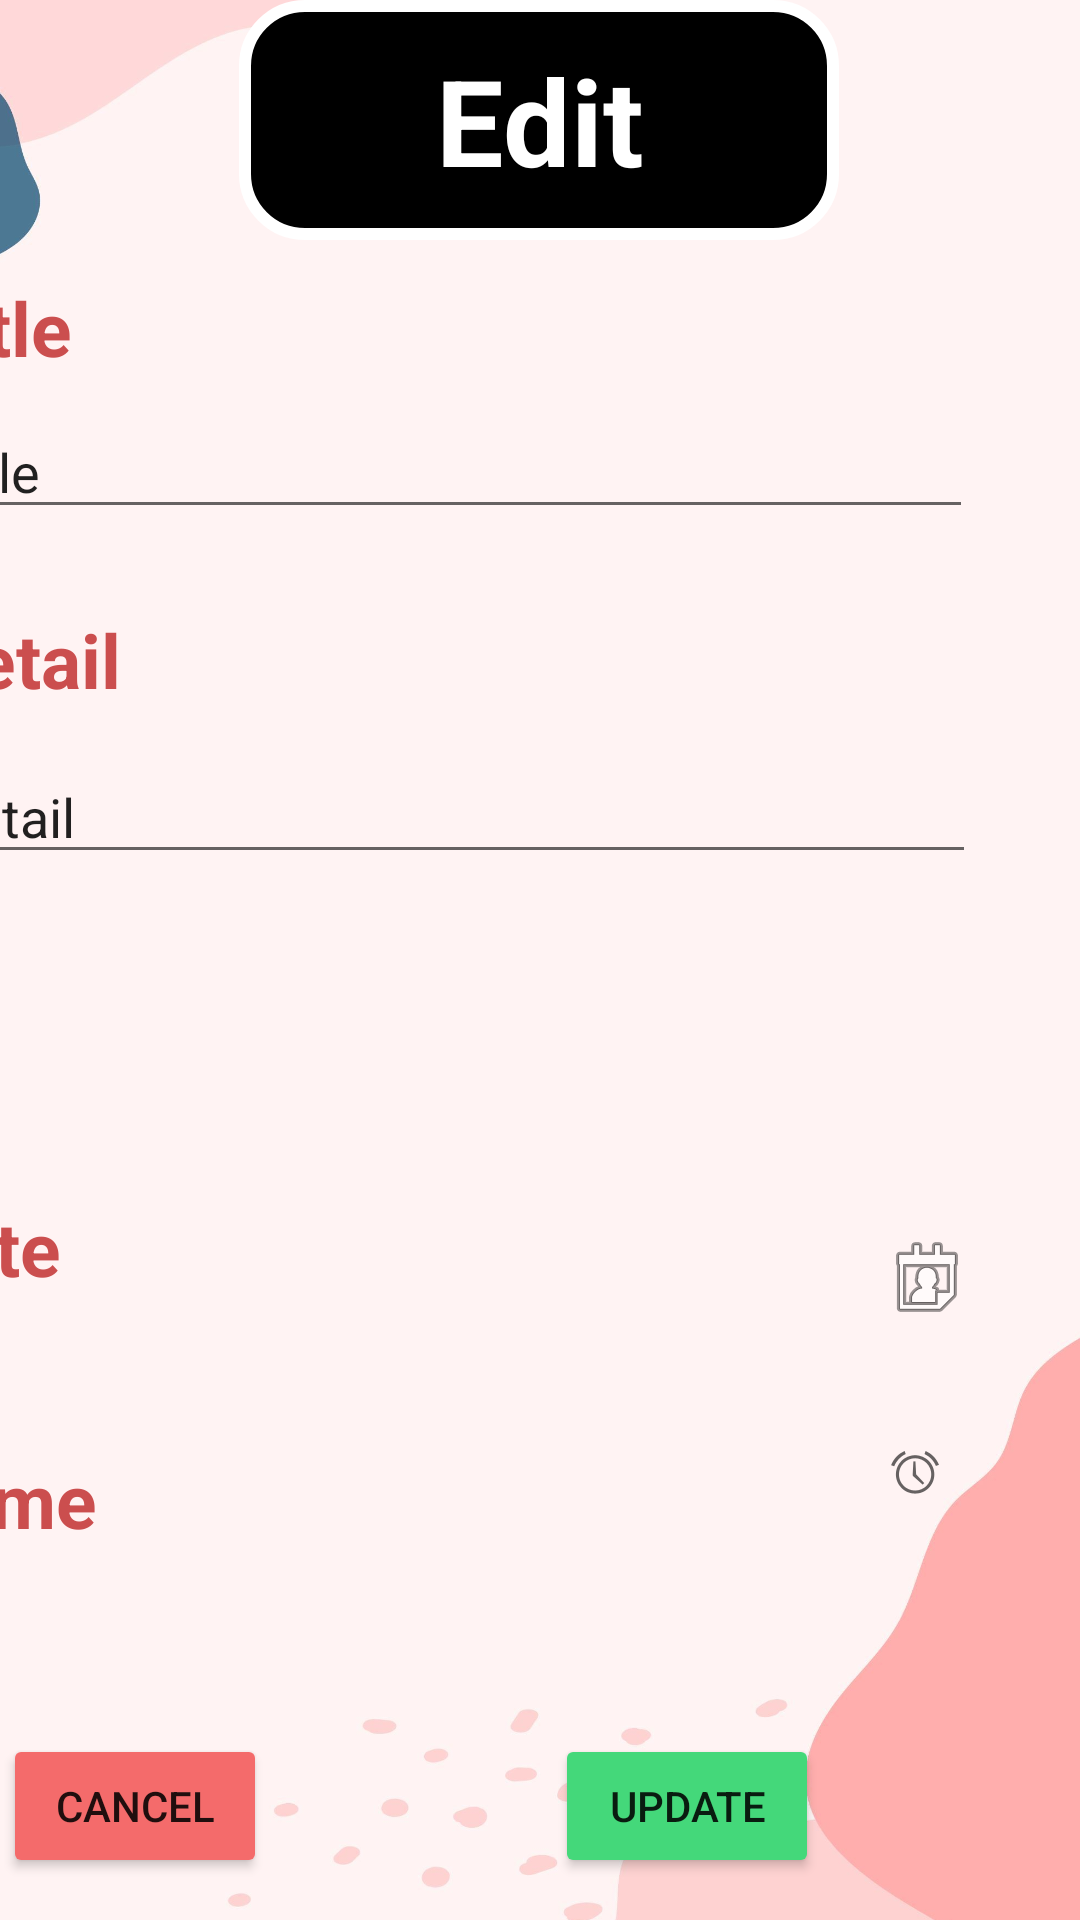

Screen size 1080px x 1920px. Icon name, then its center in pixels as (x,y):
calendar: (927,1277)
